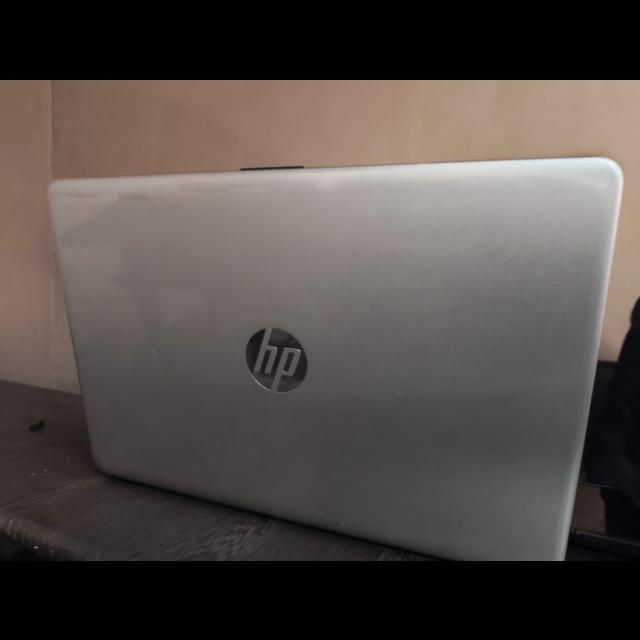laptop: (22, 137, 628, 543)
